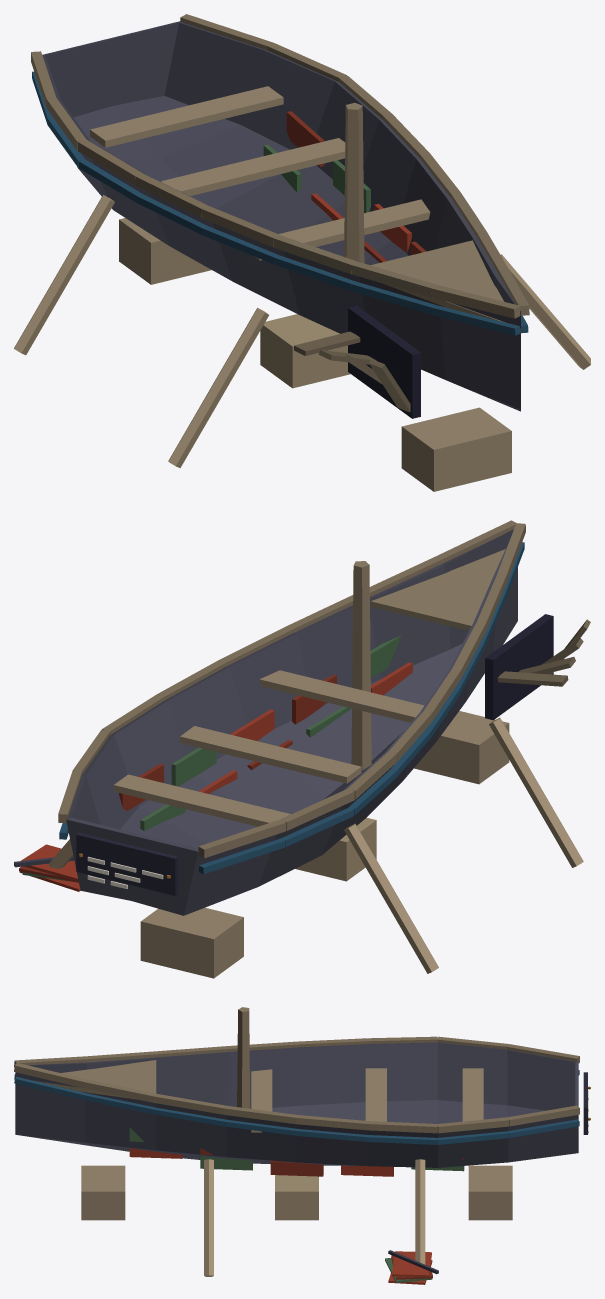
File: gannet_hulk_named.glb
3 views of the same model, one above another, from view 1: azimuth 30°, elevation 25°; view 2: azimuth 150°, elevation 25°; view 3: azimuth 270°, elevation 25° (orthographic). The views are drawn at different scales.
Visible parts, largest first — view 1: ink_l20, driftwood_d25, driftwood_d35, driftwood_d30, driftwood_d15, tide_d35, driftwood_d20, ink_l2, driftwood_d45, coal_d30, moss_d25, coal_d15; view 2: ink_l20, driftwood_d25, driftwood_d35, driftwood_d30, driftwood_d15, tide_d35, ink_l2, ink_l6, moss_d25, coal_d15, driftwood_d20, driftwood_d45 (+2 smaller); view 3: ink_l20, driftwood_d35, driftwood_d25, tide_d35, driftwood_d30, driftwood_d15, driftwood_d20, coal_d15, moss_d25, coal_d30.
Part boxes in pixels (x1,y1,x2,y2): ink_l20: (42,21,520,411); driftwood_d25: (90,86,511,491); driftwood_d35: (31,14,529,318); driftwood_d30: (344,102,520,334); driftwood_d15: (14,195,590,468); tide_d35: (32,71,528,335); driftwood_d20: (260,314,350,388); ink_l2: (348,305,420,418); driftwood_d45: (294,331,410,412); coal_d30: (286,111,426,262); moss_d25: (263,144,370,212); coal_d15: (311,193,411,252); ink_l20: (66,529,517,915); driftwood_d25: (113,670,509,978); driftwood_d35: (58,520,525,858); driftwood_d30: (351,549,505,770); driftwood_d15: (49,717,583,973); tide_d35: (59,542,524,874); ink_l2: (485,614,553,720); ink_l6: (76,832,178,895); moss_d25: (22,635,401,881); coal_d15: (19,662,412,891); driftwood_d20: (295,817,376,881); driftwood_d45: (497,619,590,686); ink_l20: (15,1042,578,1167); driftwood_d35: (14,1036,579,1133); driftwood_d25: (81,1068,512,1220); tide_d35: (14,1070,579,1144); driftwood_d30: (35,1007,250,1108); driftwood_d15: (204,1159,425,1276); driftwood_d20: (275,1175,318,1220); coal_d15: (129,1148,432,1284); moss_d25: (129,1127,464,1282); coal_d30: (200,1148,463,1279).
Size of the model in its own units: 4 by 2.51 by 6.56.
